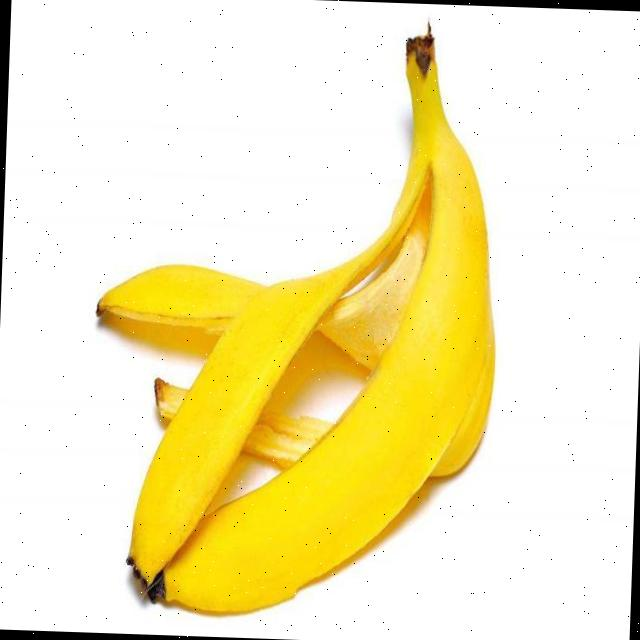banana-peel: (84, 7, 508, 624)
